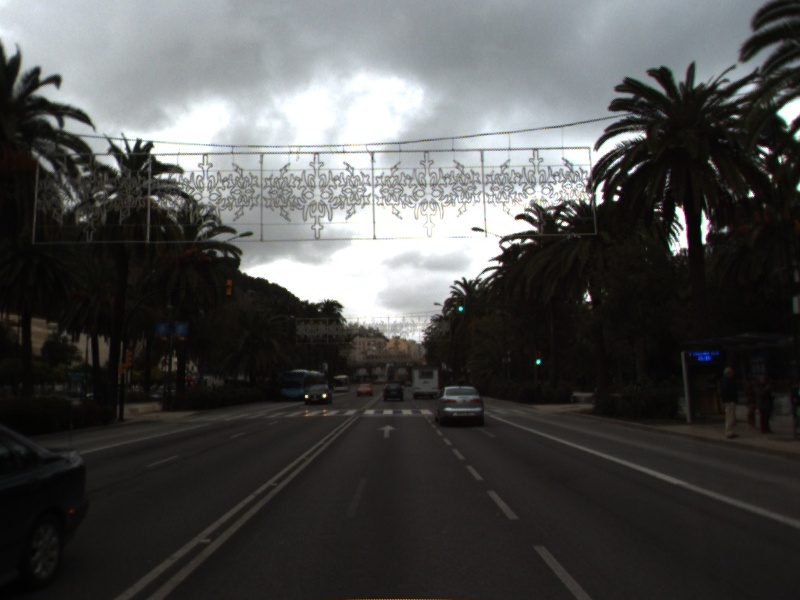STRAIGHT: (375, 423, 400, 440), (470, 424, 498, 439)
